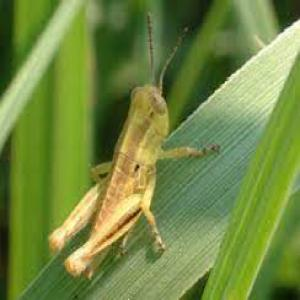locust: (46, 21, 199, 300)
